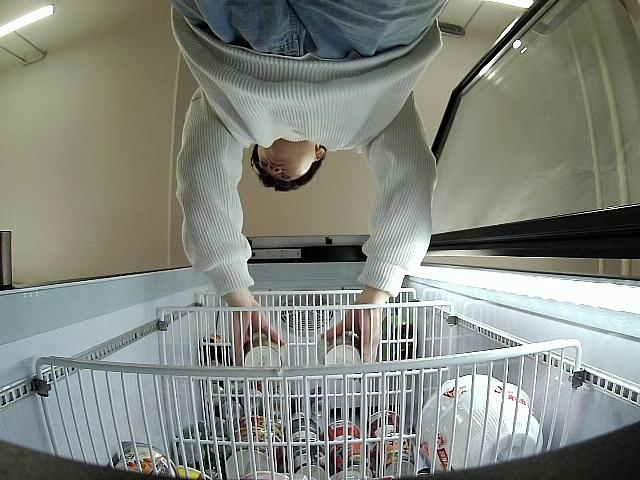00_hand: (321, 289, 383, 364), (229, 297, 285, 367)
04_chapagetti_S: (241, 337, 283, 375), (321, 333, 363, 367)
